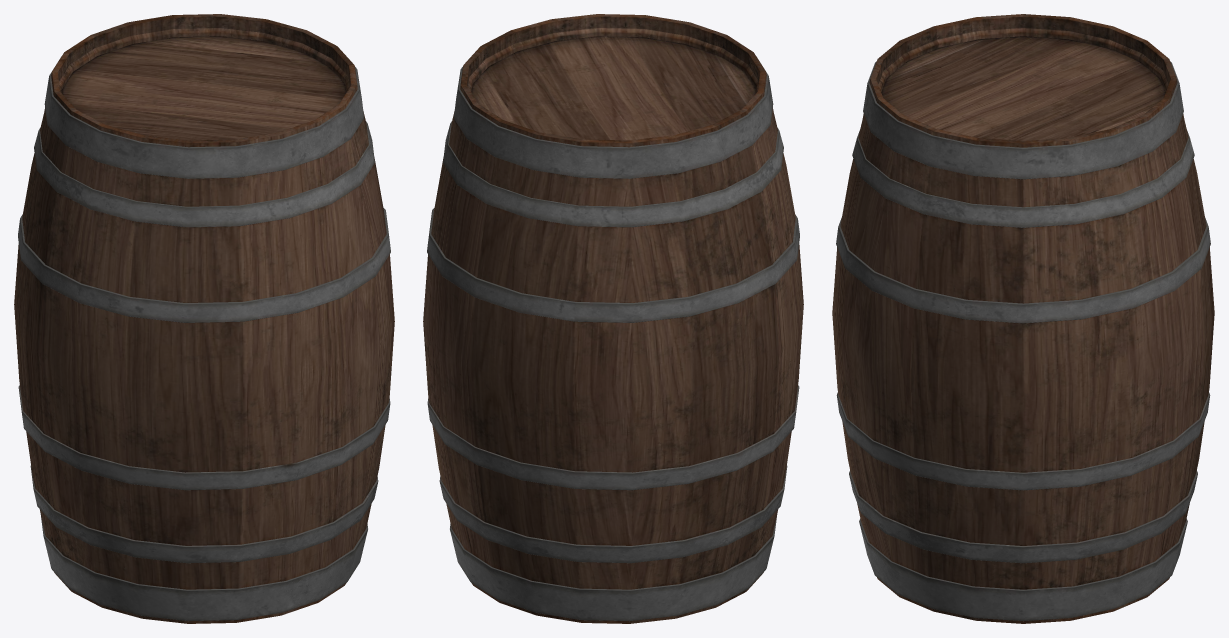
3 renders of one model, left to right at view 1: azimuth 30°, elevation 25°; view 2: azimuth 150°, elevation 25°; view 3: azimuth 270°, elevation 25°, orthographic.
Parts seen in each view (by area): view 1: LP; view 2: LP; view 3: LP.
Part boxes in pixels (x1,y1,x2,y2): LP: (14,14,394,623); LP: (423,14,803,623); LP: (832,14,1214,623).
Size of the model in its own units: 69.29 by 96.1 by 69.29.
Materials: 1 (1 with a texture image).
